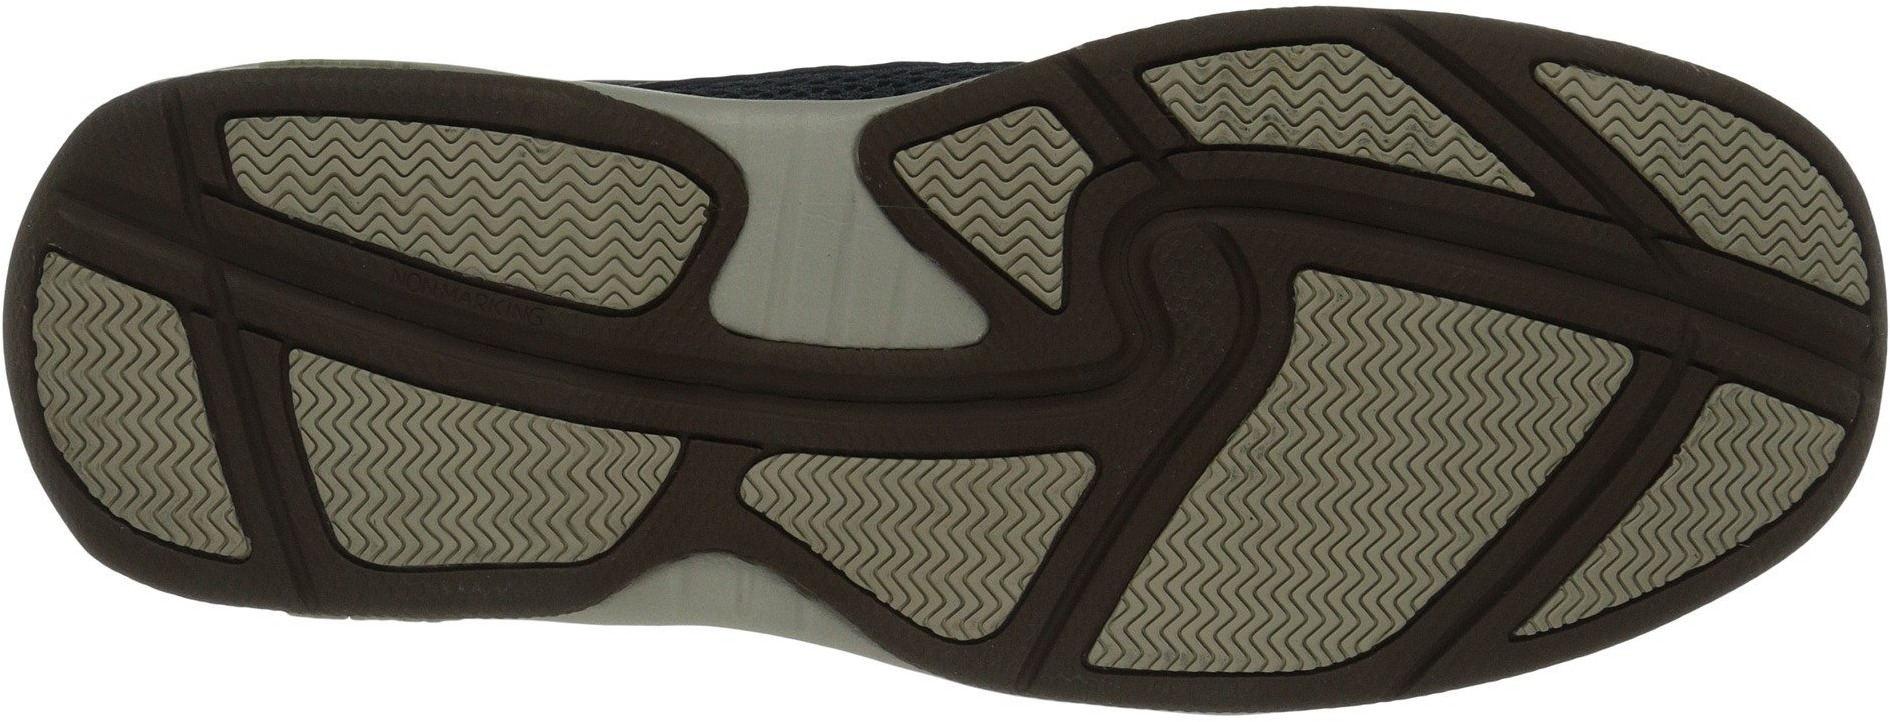chevron: (1339, 299, 1526, 481), (1199, 477, 1375, 646), (488, 142, 657, 303), (330, 388, 491, 548), (52, 337, 188, 481), (868, 466, 998, 609), (1672, 110, 1797, 245), (494, 427, 626, 548), (303, 115, 411, 225), (1243, 47, 1352, 147), (946, 140, 1062, 234), (1690, 440, 1768, 535)
quad: (759, 189, 897, 341)
